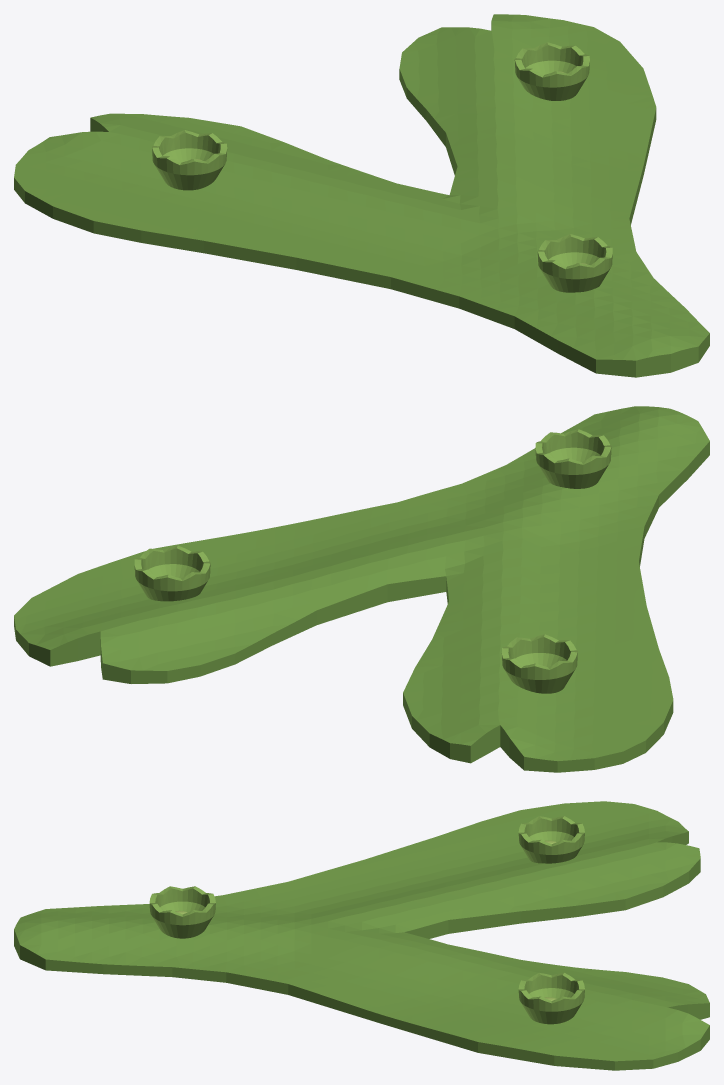
The picture shows the model from 3 angles, top to bottom: view 1: azimuth 30°, elevation 25°; view 2: azimuth 150°, elevation 25°; view 3: azimuth 270°, elevation 25°; orthographic projection. The views are drawn at different scales.
Parts seen in each view (by area): view 1: WholeDichotomousNotchedThallus, WholeCircularCrenateGemmaCup_02, WholeCircularCrenateGemmaCup_01, WholeCircularCrenateGemmaCup_03; view 2: WholeDichotomousNotchedThallus, WholeCircularCrenateGemmaCup_01, WholeCircularCrenateGemmaCup_02, WholeCircularCrenateGemmaCup_03; view 3: WholeDichotomousNotchedThallus, WholeCircularCrenateGemmaCup_01, WholeCircularCrenateGemmaCup_03, WholeCircularCrenateGemmaCup_02.
Boxes of the visible parts, x1,y1,x2,y2 form: WholeDichotomousNotchedThallus: (14,14,709,377); WholeCircularCrenateGemmaCup_02: (152,130,227,190); WholeCircularCrenateGemmaCup_01: (537,234,612,292); WholeCircularCrenateGemmaCup_03: (514,42,589,100); WholeDichotomousNotchedThallus: (14,406,709,772); WholeCircularCrenateGemmaCup_01: (535,429,611,488); WholeCircularCrenateGemmaCup_02: (501,634,577,693); WholeCircularCrenateGemmaCup_03: (134,545,210,601); WholeDichotomousNotchedThallus: (14,801,709,1070); WholeCircularCrenateGemmaCup_01: (149,886,215,938); WholeCircularCrenateGemmaCup_03: (518,973,584,1024); WholeCircularCrenateGemmaCup_02: (518,816,584,863).
Bounding box in the file's own units: 0.058 × 0.00488 × 0.066.
